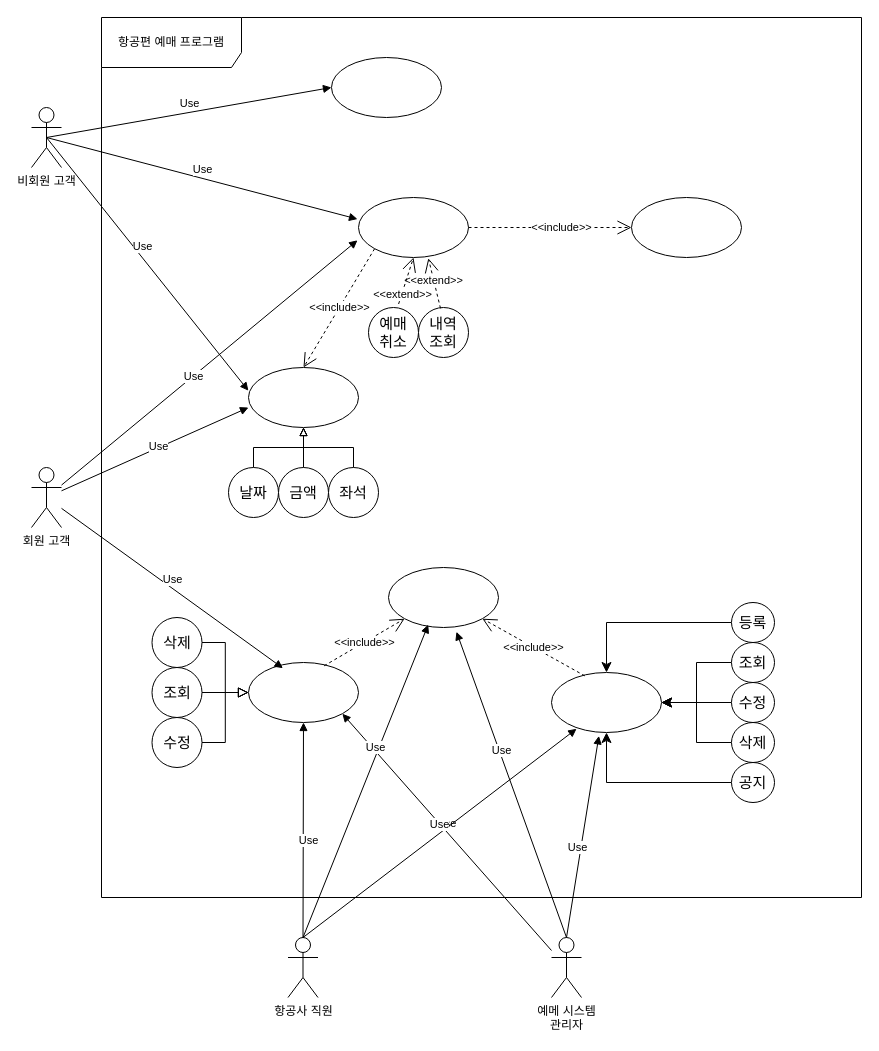
Some shapes in this 879 by 1051 pixel diagram are drawn without their labels. Each missing label, with the box of its shape:
결제: (630, 196, 742, 258)
로그인: (388, 566, 498, 628)
예매: (358, 196, 468, 258)
항공편 관리: (550, 672, 662, 732)
항공편 조회: (248, 366, 358, 428)
회원 가입: (330, 56, 442, 118)
회원 정보 관리: (248, 662, 358, 722)
